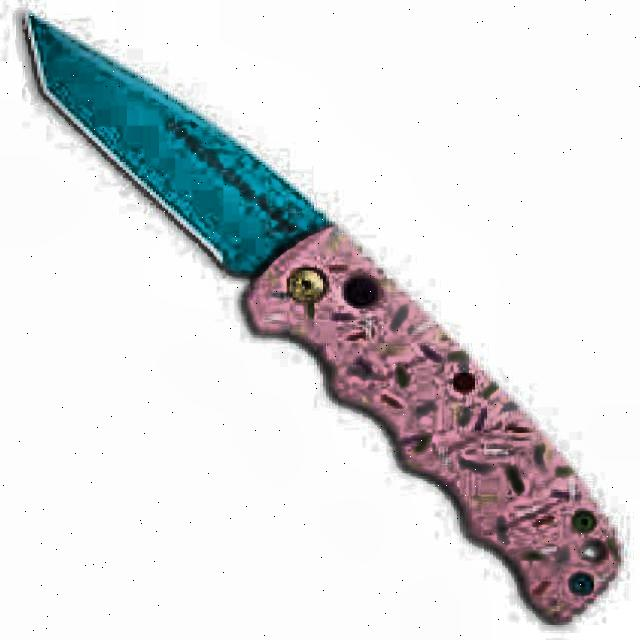knife: (18, 12, 629, 620)
